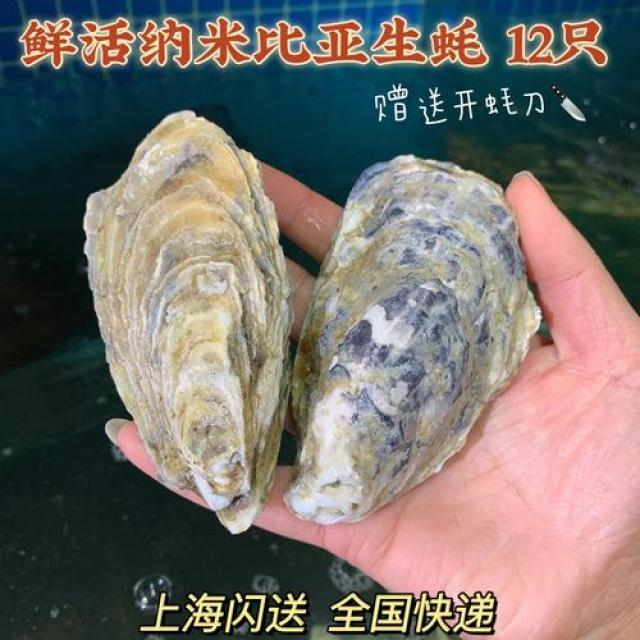Oyster- Indeterminate: (282, 148, 543, 528), (76, 103, 290, 538)
